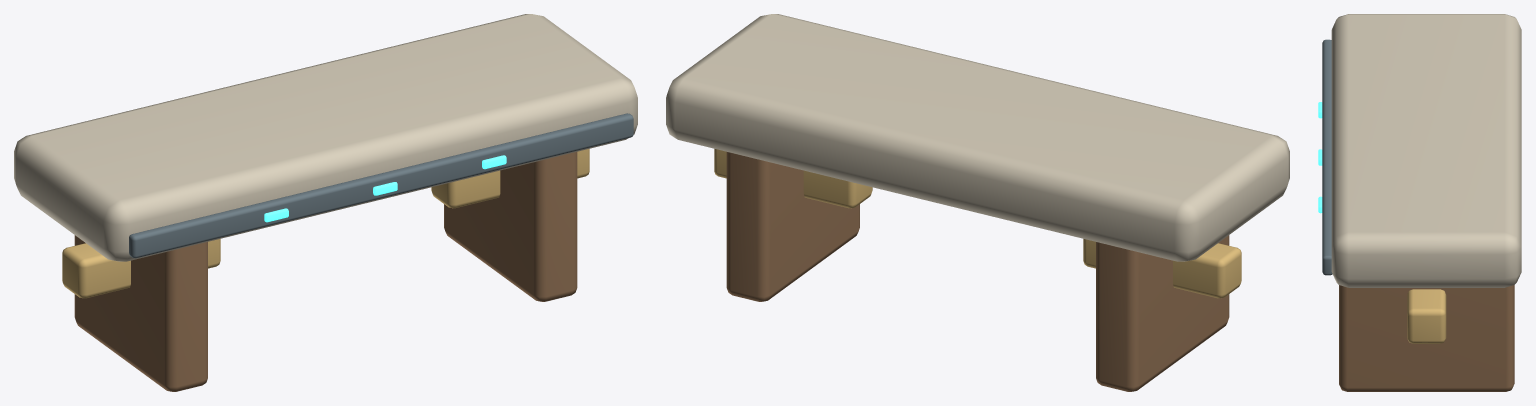
Rendered from SM_KlingenhofBench_01.fbx.
3 renders of one model, left to right at view 1: azimuth 30°, elevation 25°; view 2: azimuth 150°, elevation 25°; view 3: azimuth 270°, elevation 25°, orthographic. The views are drawn at different scales.
Parts seen in each view (by area): view 1: SM_KlingenhofBench_01; view 2: SM_KlingenhofBench_01; view 3: SM_KlingenhofBench_01.
Part boxes in pixels (bbox=[...]): SM_KlingenhofBench_01: bbox=[14, 14, 637, 391]; SM_KlingenhofBench_01: bbox=[666, 14, 1289, 391]; SM_KlingenhofBench_01: bbox=[1318, 14, 1521, 391].
Bounding box in the file's own units: 2.25 × 0.825 × 0.835.
